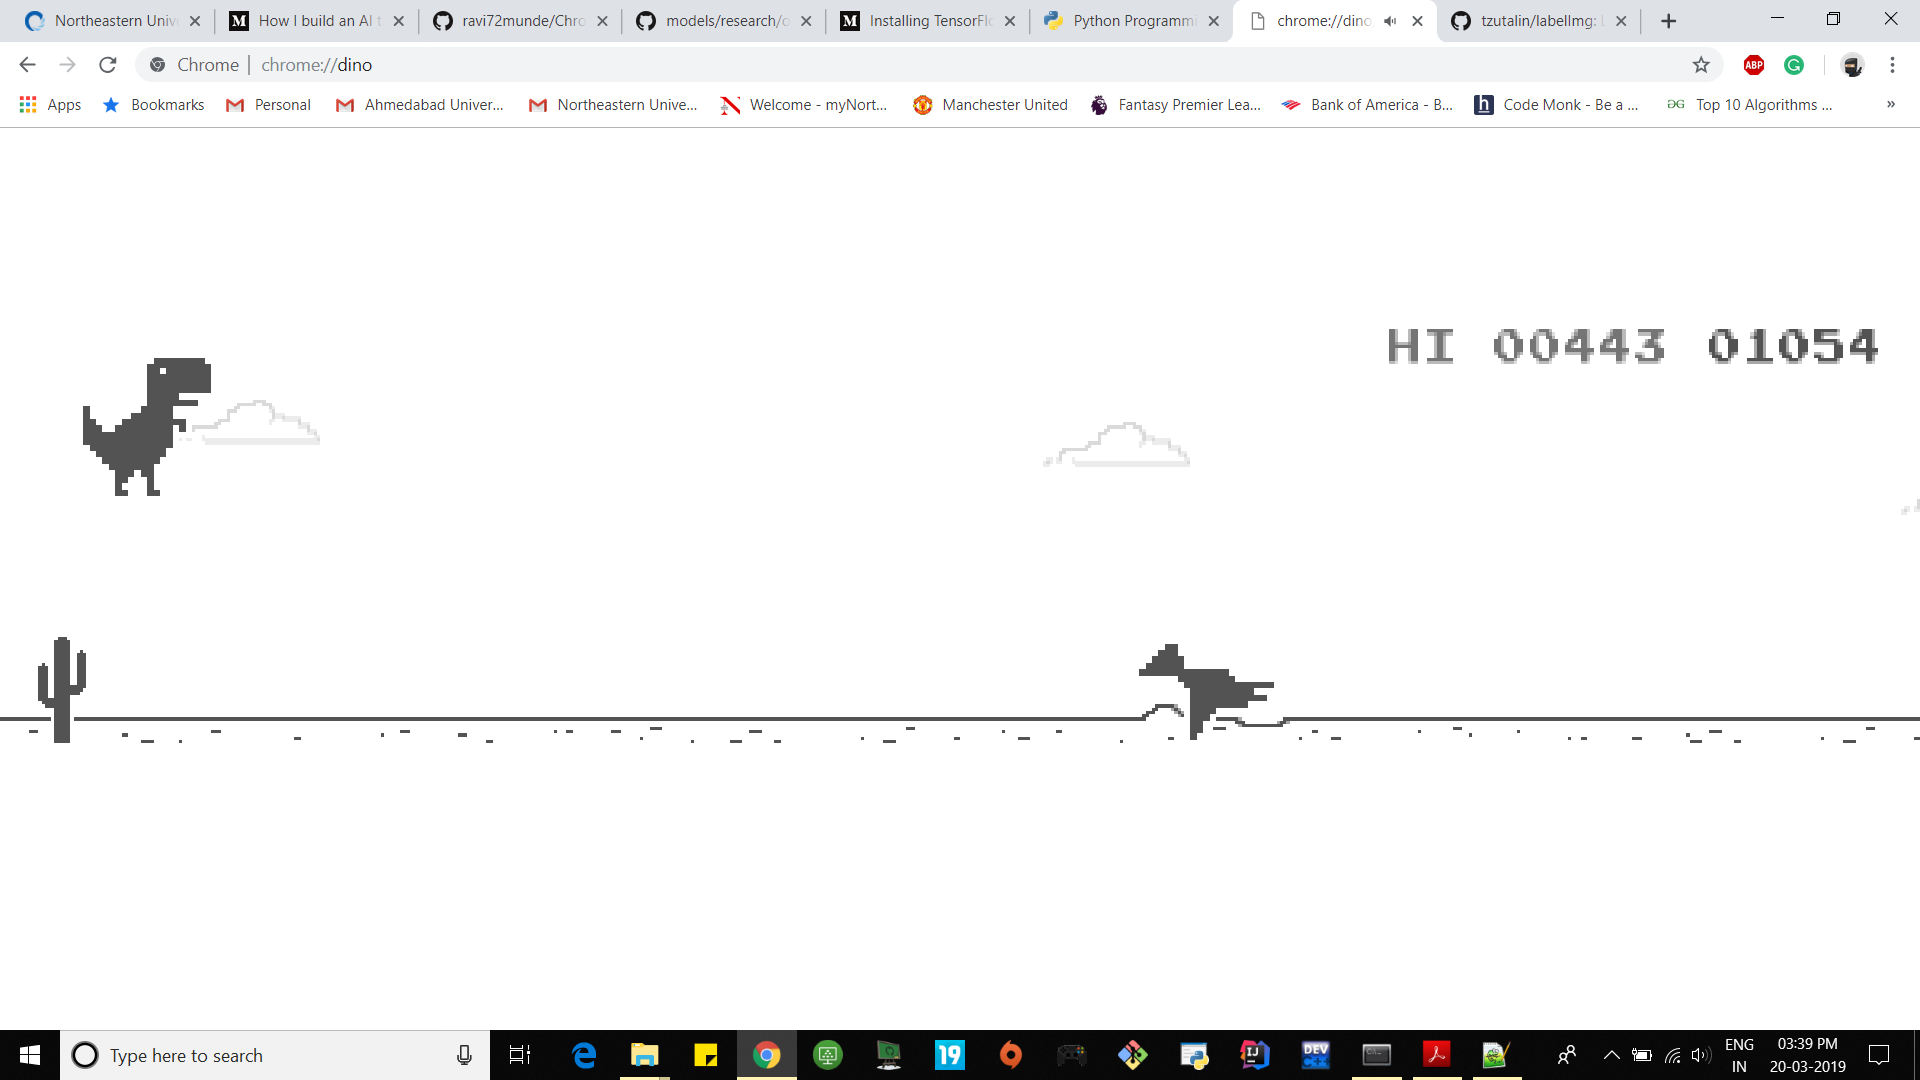bird: (1139, 644, 1276, 741)
cactus-small: (36, 636, 88, 742)
dino: (80, 356, 214, 500)
